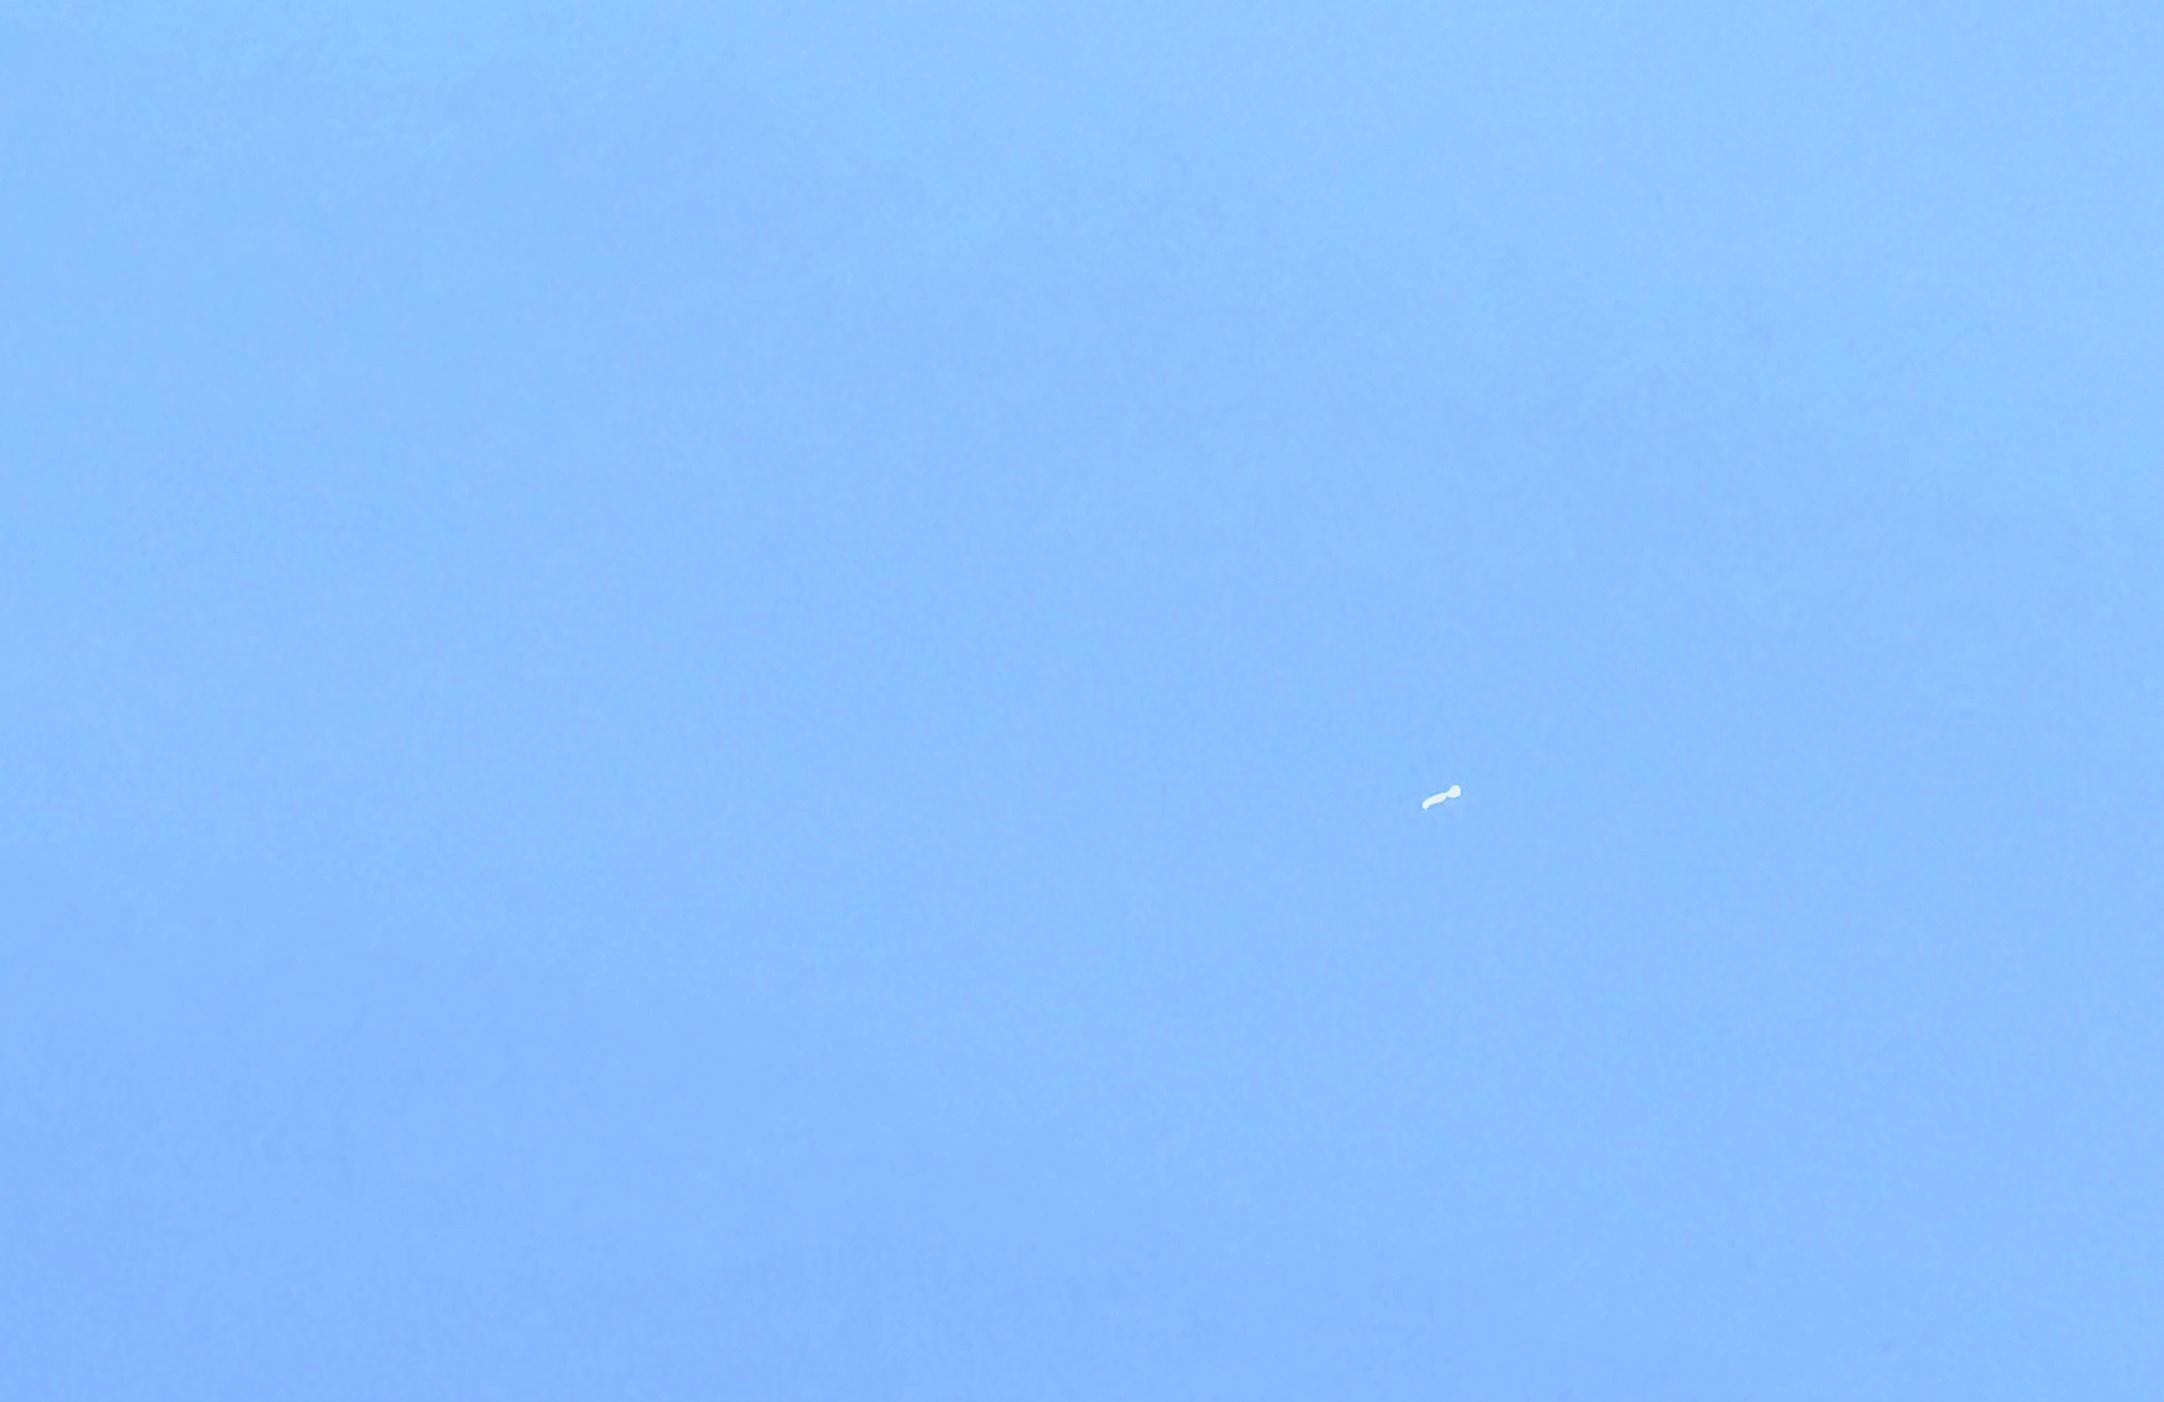Plane: (1386, 774, 1491, 807)
